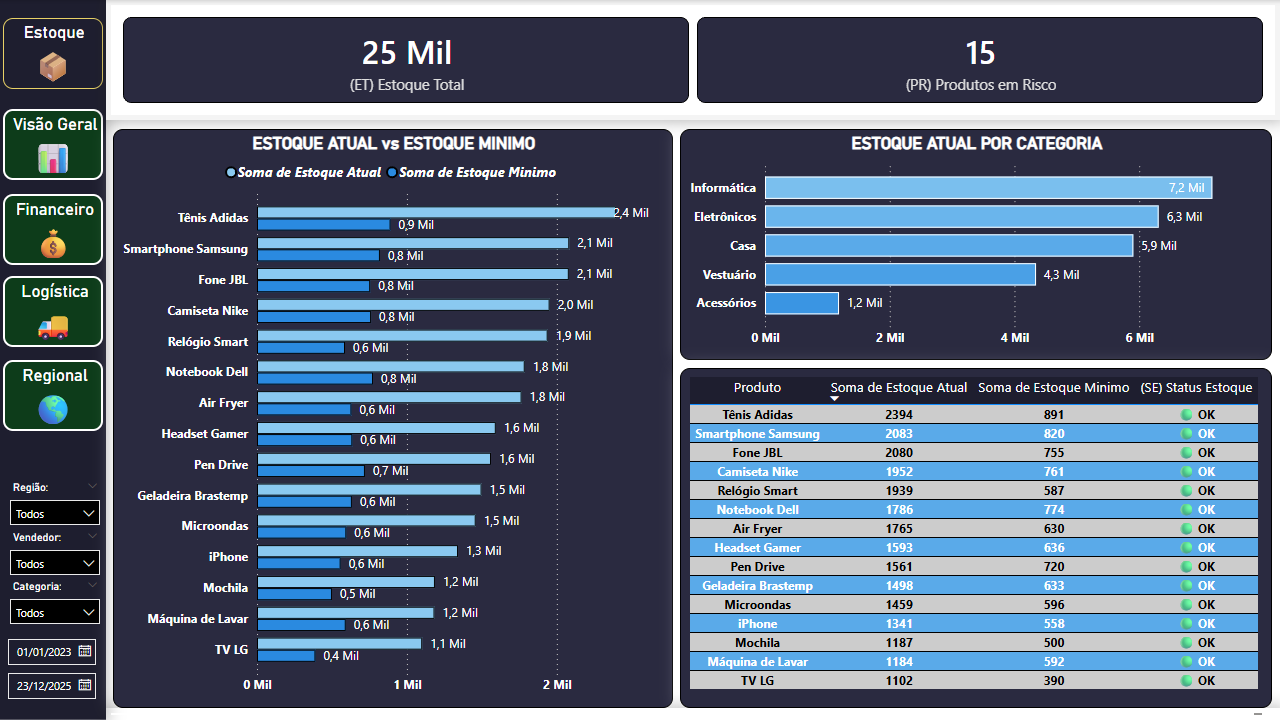

The dashboard page shown, as its layout file describes it:
{"tool":"powerbi","page":{"name":"Estoque","canvas":[1280,720],"ordinal":2},"visuals":[{"type":"shape","box":[0,0,106,719.8],"z":0},{"type":"actionButton","title":"Estoque","box":[2.9,17.5,100.2,71],"z":1000},{"type":"actionButton","title":"Visão Geral","box":[2.9,108.9,100.2,71],"z":2000},{"type":"actionButton","title":"Financeiro","box":[2.9,193.6,100.2,71],"z":3000},{"type":"actionButton","title":"Logística","box":[2.9,276.2,100.2,71],"z":4000},{"type":"actionButton","title":"Regional","box":[2.9,359.9,100.2,71],"z":5000},{"type":"cardVisual","fields":{"Data":["Base.(SE) Status Estoque"]},"box":[106.3,708,1173.7,12],"z":6000},{"type":"cardVisual","fields":{"Data":["Base.(ET) Estoque Total","Base.(PR) Produtos em Risco"]},"box":[105.9,0,1174.1,120.2],"z":7000},{"type":"clusteredBarChart","title":"ESTOQUE ATUAL vs ESTOQUE MINIMO","fields":{"Category":["Base.Produto"],"Y":["Sum(Base.Estoque Atual)","Sum(Base.Estoque Minimo)"]},"box":[113.4,129.4,559.7,578.8],"z":8000},{"type":"barChart","title":"ESTOQUE ATUAL POR CATEGORIA","fields":{"Category":["Base.Categoria"],"Y":["Sum(Base.Estoque Atual)"]},"box":[680.1,129.4,591.8,230.7],"z":9000},{"type":"tableEx","title":"ESTOQUE ATUAL vs ESTOQUE MINIMO","fields":{"Values":["Base.Produto","Sum(Base.Estoque Atual)","Sum(Base.Estoque Minimo)","Base.(SE) Status Estoque"]},"box":[680.1,368.2,591.8,340.1],"z":10000},{"type":"slicer","fields":{"Values":["Base.Regiao"]},"box":[0,476,110,59],"z":11000},{"type":"slicer","fields":{"Values":["Base.Vendedor"]},"box":[0,526,110,59],"z":12000},{"type":"slicer","fields":{"Values":["Base.Categoria"]},"box":[0,575,110,59],"z":13000},{"type":"slicer","fields":{"Values":["Base.Data"]},"box":[0,634,105,72],"z":14000}]}

Visuals, with their boxes in screenshot pixels (x1, y1, x2, y2), scaled from the page's 1280x720 canvas onto the 1280x720 screenshot:
shape: bbox=(0, 0, 106, 719)
"Estoque" actionButton: bbox=(3, 18, 103, 88)
"Visão Geral" actionButton: bbox=(3, 109, 103, 180)
"Financeiro" actionButton: bbox=(3, 194, 103, 265)
"Logística" actionButton: bbox=(3, 276, 103, 347)
"Regional" actionButton: bbox=(3, 360, 103, 431)
cardVisual - Base.(SE) Status Estoque: bbox=(106, 708, 1279, 719)
cardVisual - Base.(ET) Estoque Total x Base.(PR) Produtos em Risco: bbox=(106, 0, 1279, 120)
"ESTOQUE ATUAL vs ESTOQUE MINIMO" clusteredBarChart: bbox=(113, 129, 673, 708)
"ESTOQUE ATUAL POR CATEGORIA" barChart: bbox=(680, 129, 1272, 360)
"ESTOQUE ATUAL vs ESTOQUE MINIMO" tableEx: bbox=(680, 368, 1272, 708)
slicer - Base.Regiao: bbox=(0, 476, 110, 535)
slicer - Base.Vendedor: bbox=(0, 526, 110, 585)
slicer - Base.Categoria: bbox=(0, 575, 110, 634)
slicer - Base.Data: bbox=(0, 634, 105, 706)
